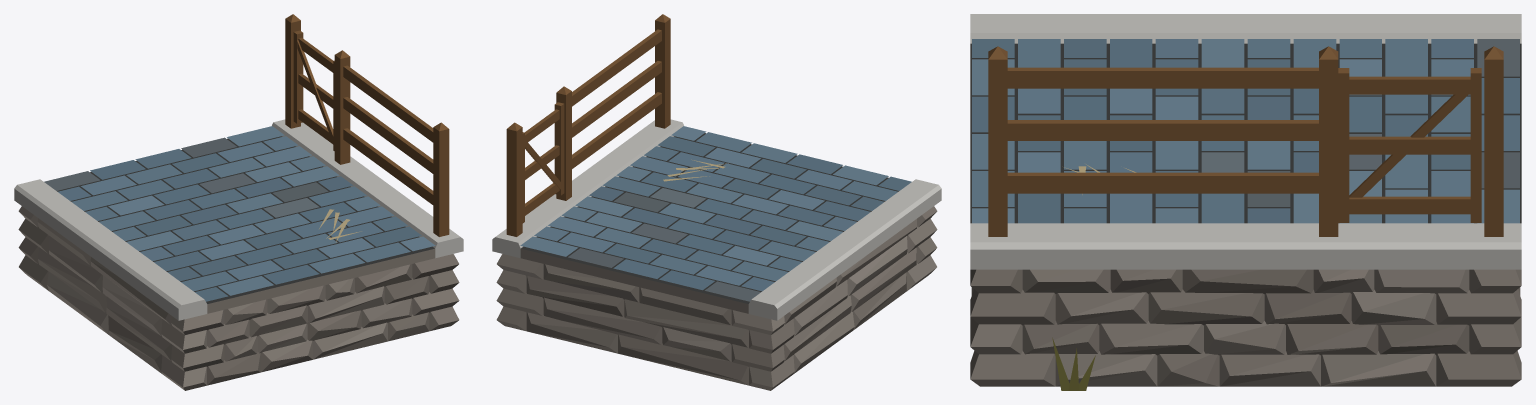
Rendered from cattle-dock-6e41e4.glb.
3 views of the same model, side by side, from view 1: azimuth 30°, elevation 25°; view 2: azimuth 150°, elevation 25°; view 3: azimuth 270°, elevation 25° (orthographic). The views are drawn at different scales.
Visible parts, largest first — view 1: cattle-dock-body, drover-gate-leaf; view 2: cattle-dock-body, drover-gate-leaf; view 3: cattle-dock-body, drover-gate-leaf, weed-0-blades.
Boxes of the visible parts, bbox=[...] form: cattle-dock-body: bbox=[14, 14, 463, 390]; drover-gate-leaf: bbox=[293, 30, 334, 150]; cattle-dock-body: bbox=[492, 14, 941, 390]; drover-gate-leaf: bbox=[522, 102, 564, 223]; cattle-dock-body: bbox=[970, 14, 1521, 386]; drover-gate-leaf: bbox=[1338, 68, 1481, 222]; weed-0-blades: bbox=[1052, 337, 1095, 390].
Size of the model in its own units: 4 by 2.69 by 4.
